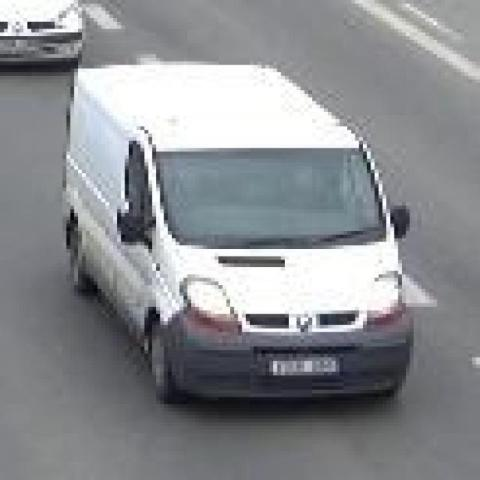van: (68, 67, 408, 406)
